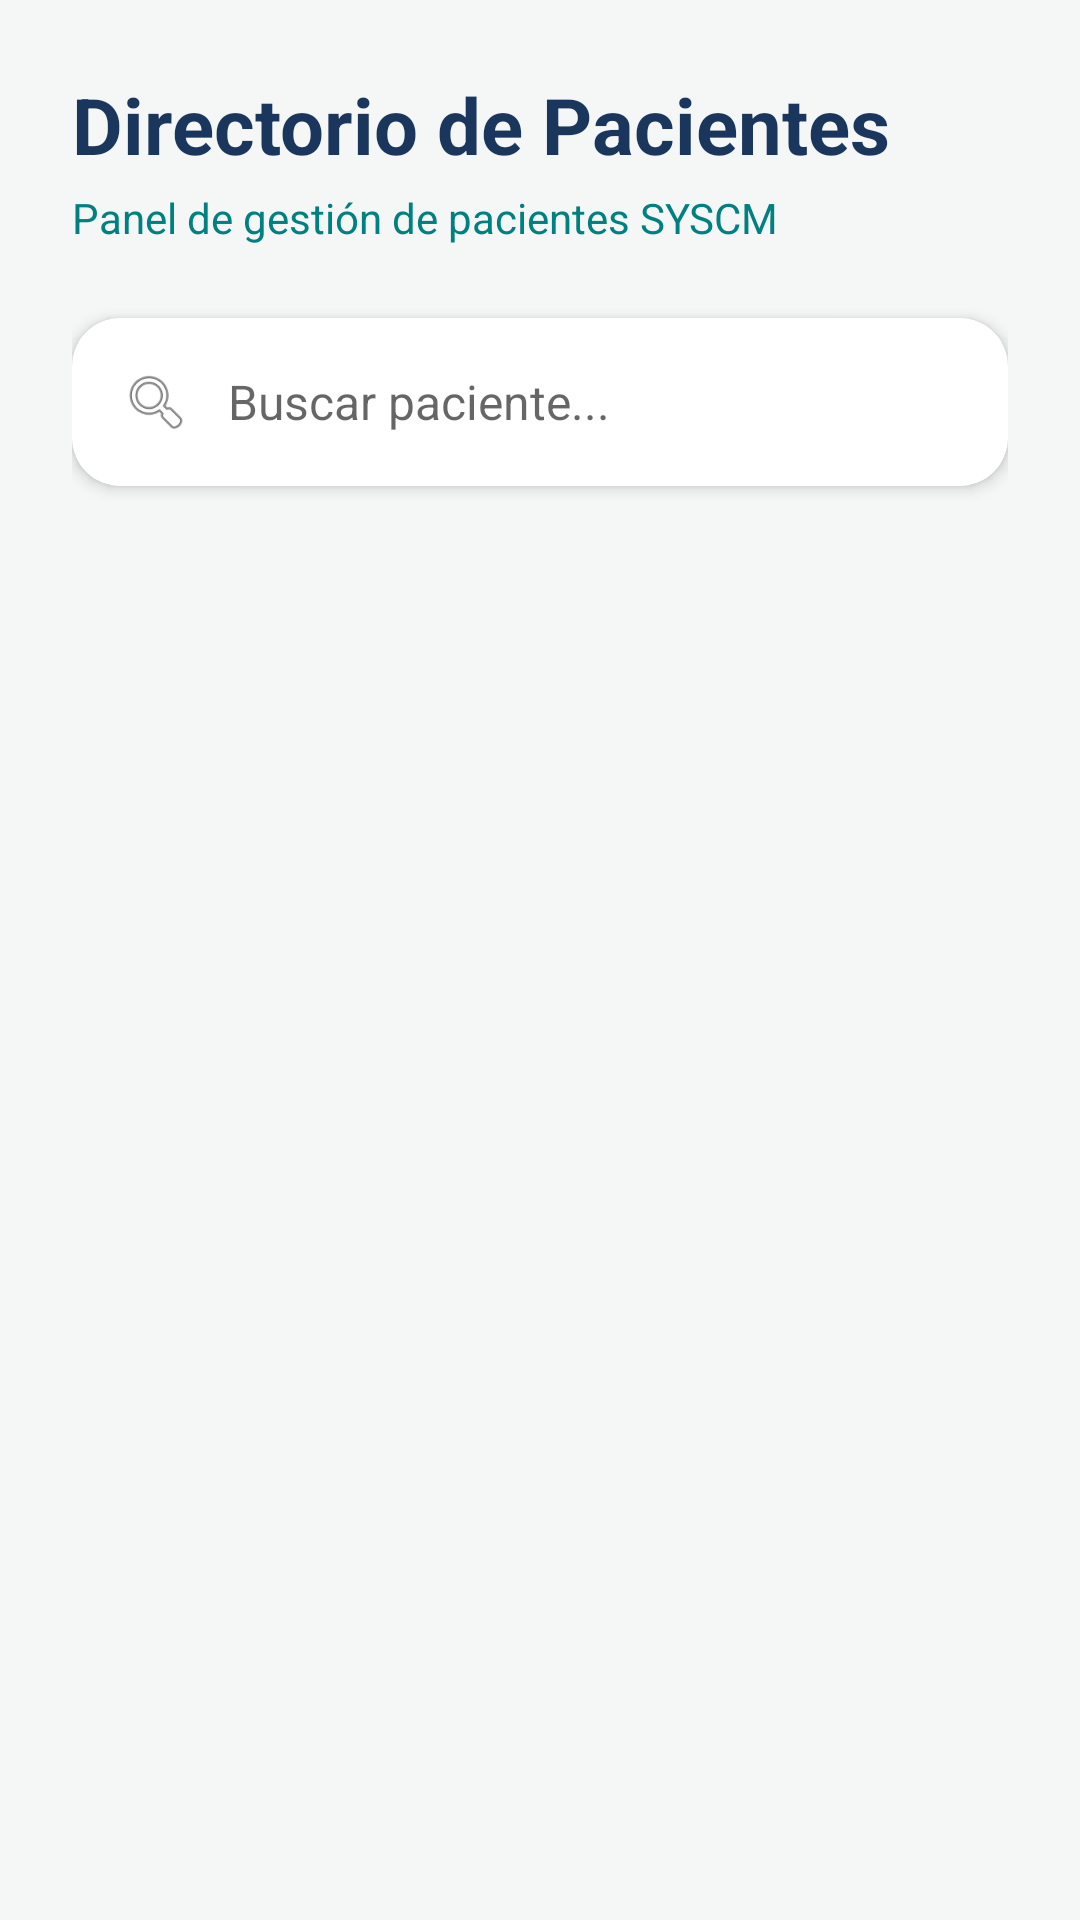

Icon click points for this 1080px×1920px phone screenshot, format point (x, y):
search: point (156, 402)
